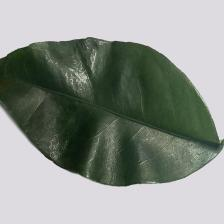healthy: (0, 42, 217, 180)
